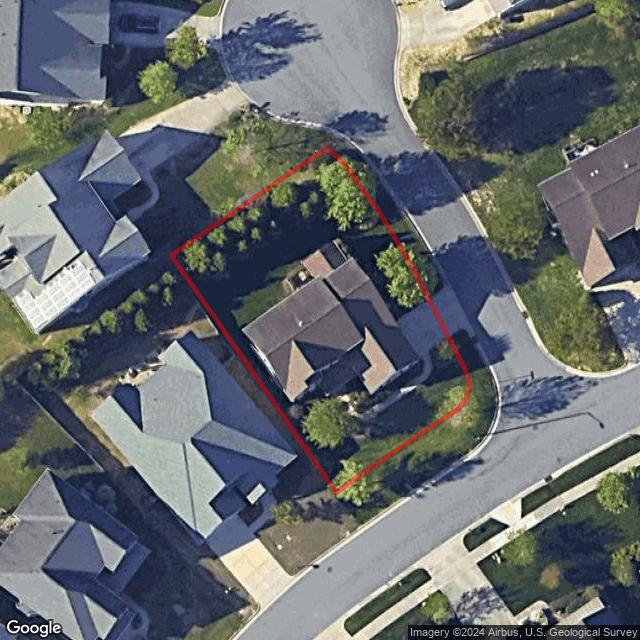Driveway: (395, 299, 449, 357)
Extra-Driveway: (428, 280, 469, 339)
Extra-Lawn: (336, 327, 497, 524), (325, 136, 444, 299)
House: (242, 239, 419, 402)
Lawn: (172, 147, 469, 493)
Other: (174, 177, 329, 277), (341, 358, 425, 412)
Sidewalk: (325, 351, 432, 423)
